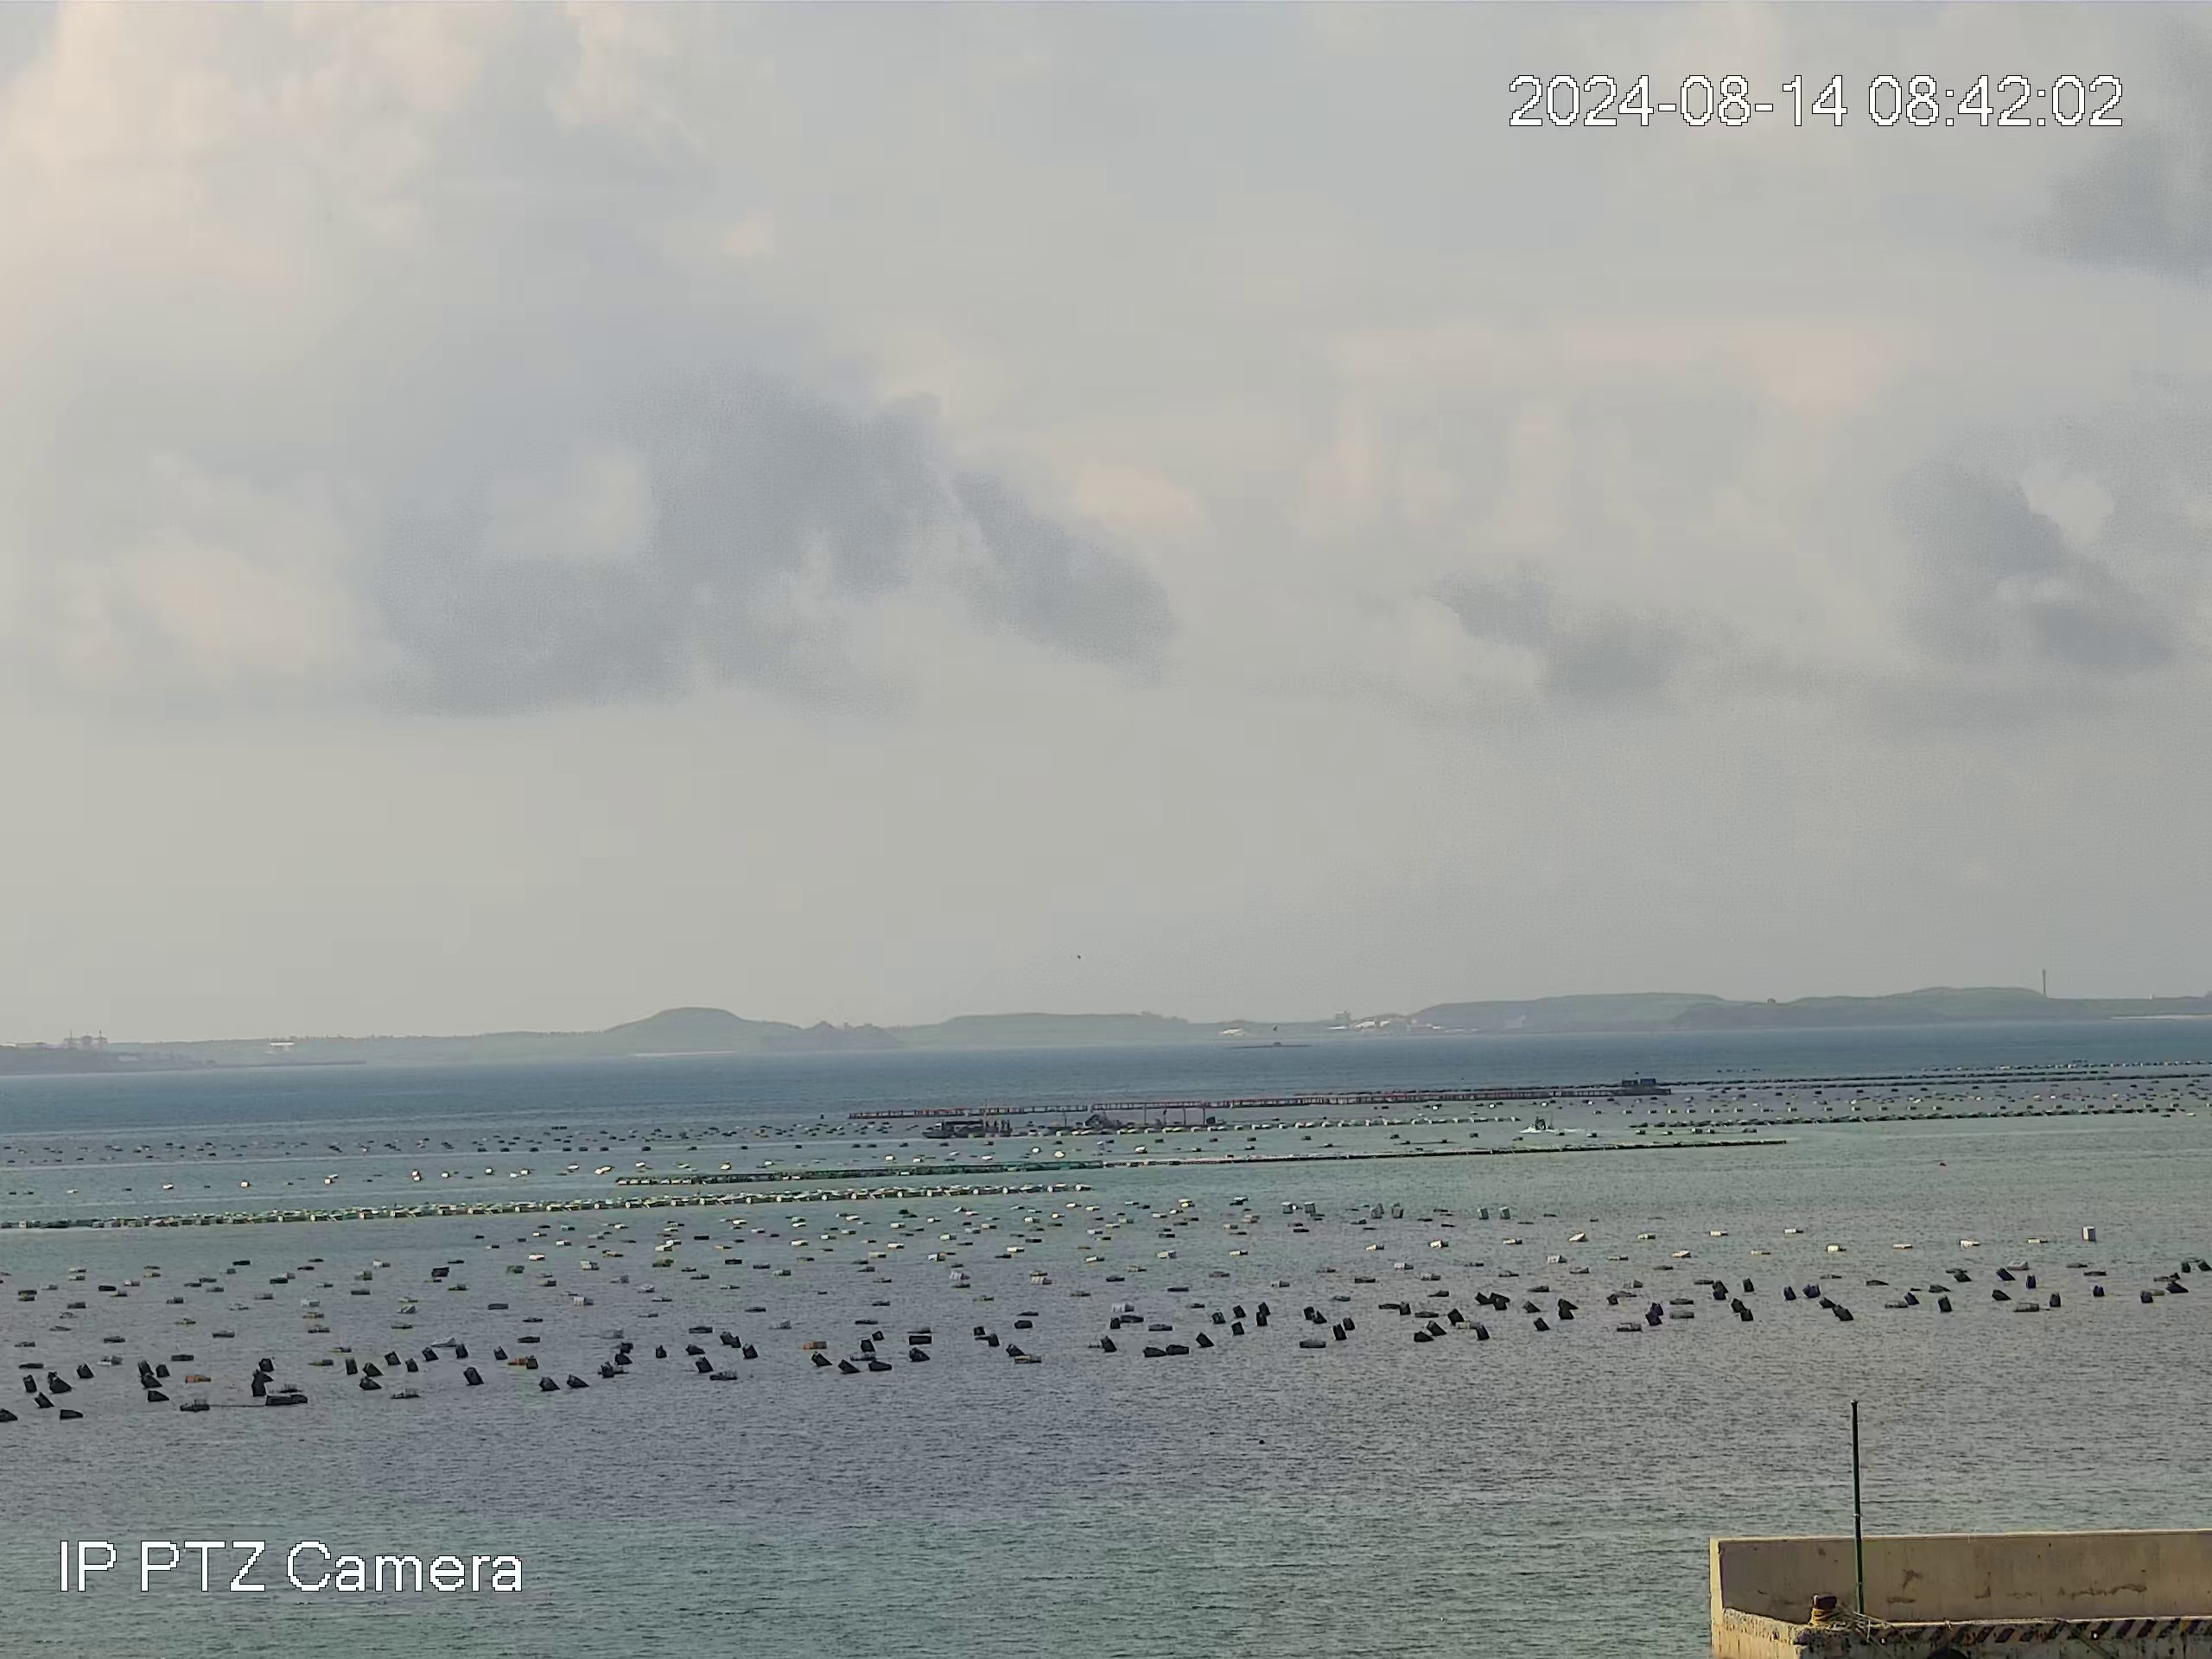boat: (923, 1119, 984, 1138), (1527, 1114, 1557, 1134)
